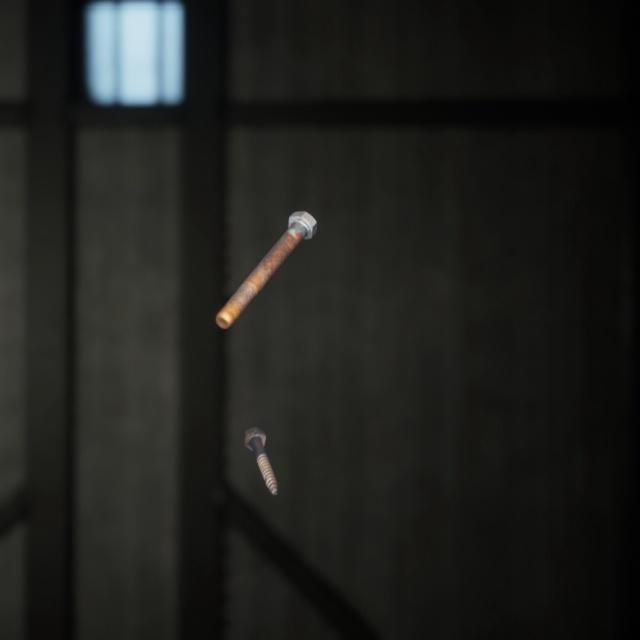bolt: (211, 190, 321, 315), (238, 401, 282, 478)
